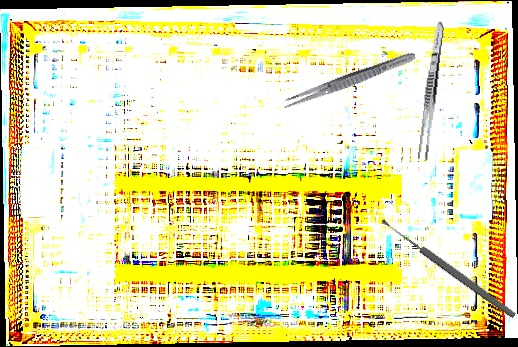Dressing Forceps: (280, 48, 418, 113), (416, 20, 447, 162)
Surgical Spoon: (379, 216, 518, 320)
